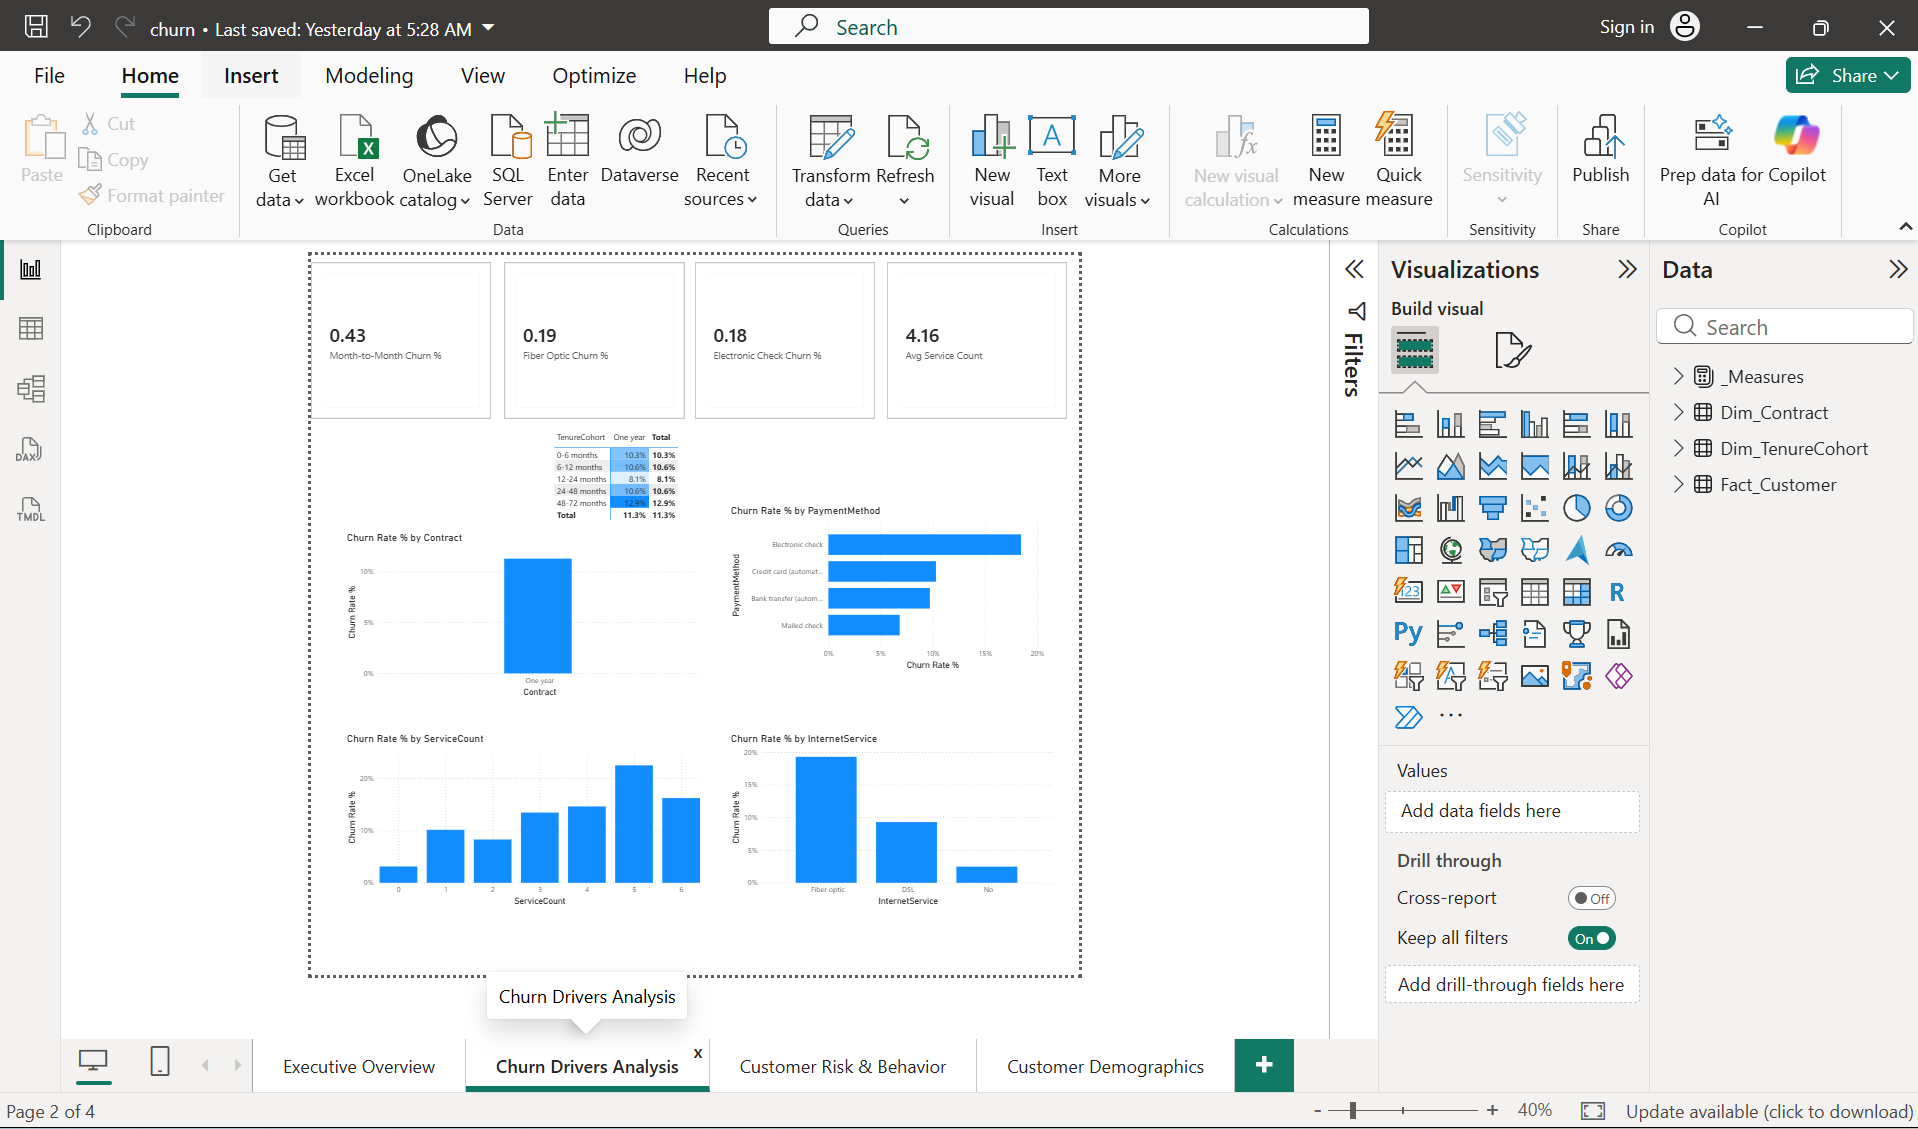

Layout of this report page (visuals, bound fields, positions):
{"tool":"powerbi","page":{"name":"Churn Drivers Analysis","canvas":[1280,1200],"ordinal":1},"visuals":[{"type":"cardVisual","fields":{"Data":["_Measures.Month-to-Month Churn %"]},"box":[0,12.5,300,260],"z":0},{"type":"cardVisual","fields":{"Data":["_Measures.Electronic Check Churn %"]},"box":[640,12.5,300,260],"z":1000},{"type":"cardVisual","fields":{"Data":["_Measures.Fiber Optic Churn %"]},"box":[322.5,12.5,300,260],"z":2000},{"type":"cardVisual","fields":{"Data":["_Measures.Avg Service Count"]},"box":[960,12.5,300,260],"z":3000},{"type":"pivotTable","fields":{"Rows":["Dim_TenureCohort.TenureCohort"],"Columns":["Dim_Contract.Contract"],"Values":["_Measures.Churn Rate %"]},"box":[400,287.5,800,172.5],"z":4000},{"type":"clusteredColumnChart","fields":{"Category":["Dim_Contract.Contract"],"Y":["_Measures.Churn Rate %"]},"box":[56,460,598,280],"z":5000},{"type":"clusteredBarChart","fields":{"Category":["Fact_Customer.PaymentMethod"],"Y":["_Measures.Churn Rate %"]},"box":[694,416,532,280],"z":6000},{"type":"clusteredColumnChart","fields":{"Category":["Fact_Customer.InternetService"],"Y":["_Measures.Churn Rate %"]},"box":[694,796,546,294],"z":7000},{"type":"clusteredColumnChart","fields":{"Y":["_Measures.Churn Rate %"],"Category":["Fact_Customer.ServiceCount"]},"box":[56,796,598,294],"z":8000}]}

Visuals, with their boxes on the page's 1280x1200 design canvas (x1, y1, x2, y2). These are canvas units, not pixel positions in the 1918x1129 screenshot, which may show the page scaled, cropped or inside an application window:
cardVisual - _Measures.Month-to-Month Churn %: 0:12:300:272
cardVisual - _Measures.Electronic Check Churn %: 640:12:940:272
cardVisual - _Measures.Fiber Optic Churn %: 322:12:622:272
cardVisual - _Measures.Avg Service Count: 960:12:1260:272
pivotTable - Dim_TenureCohort.TenureCohort x Dim_Contract.Contract: 400:288:1200:460
clusteredColumnChart - Dim_Contract.Contract x _Measures.Churn Rate %: 56:460:654:740
clusteredBarChart - Fact_Customer.PaymentMethod x _Measures.Churn Rate %: 694:416:1226:696
clusteredColumnChart - Fact_Customer.InternetService x _Measures.Churn Rate %: 694:796:1240:1090
clusteredColumnChart - _Measures.Churn Rate % x Fact_Customer.ServiceCount: 56:796:654:1090
